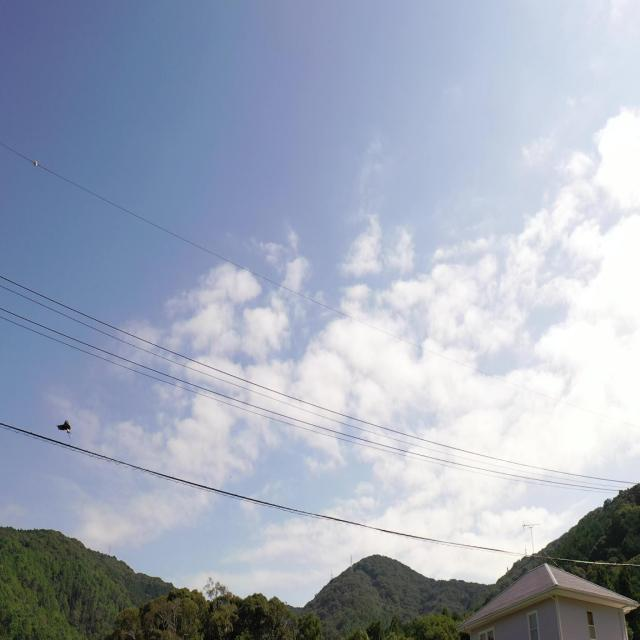Birds: (53, 412, 75, 443)
